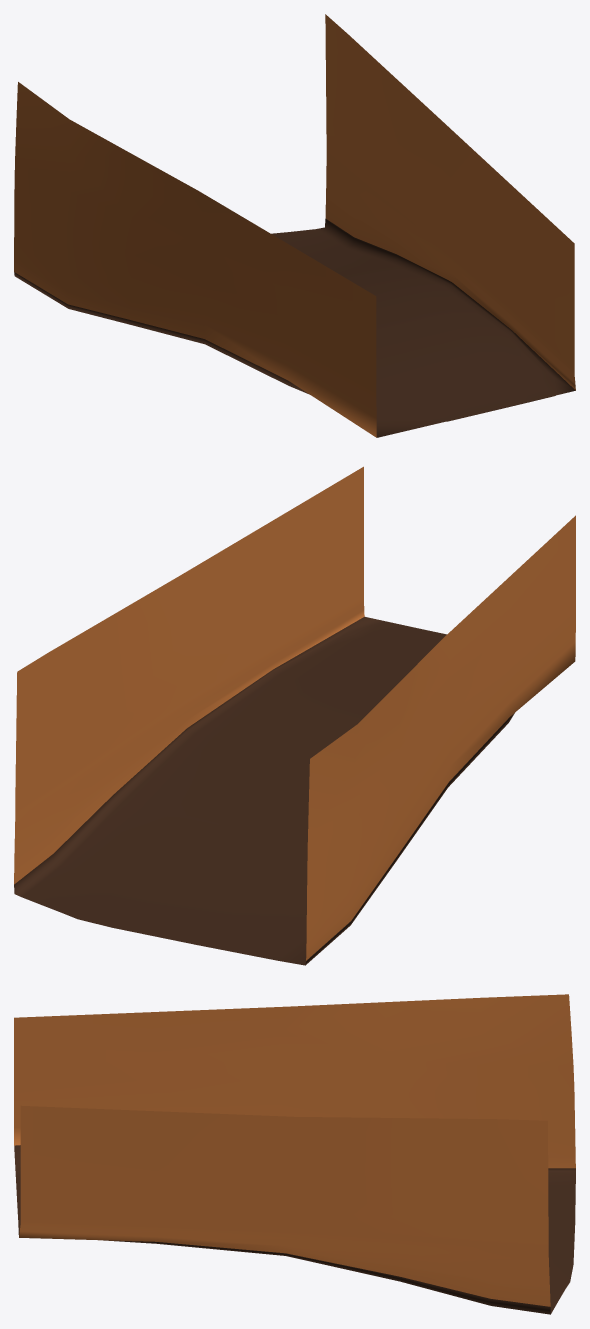
3 renders of one model, top to bottom at view 1: azimuth 30°, elevation 25°; view 2: azimuth 150°, elevation 25°; view 3: azimuth 270°, elevation 25°, orthographic. The views are drawn at different scales.
Visible parts, largest first — view 1: pCube9; view 2: pCube9; view 3: pCube9.
Part boxes in pixels (<box>): pCube9: <box>14,14,575,437</box>; pCube9: <box>14,466,575,965</box>; pCube9: <box>14,994,575,1314</box>.
Bounding box in the file's own units: 188 × 130 × 341.
1 material, 1 textured.
